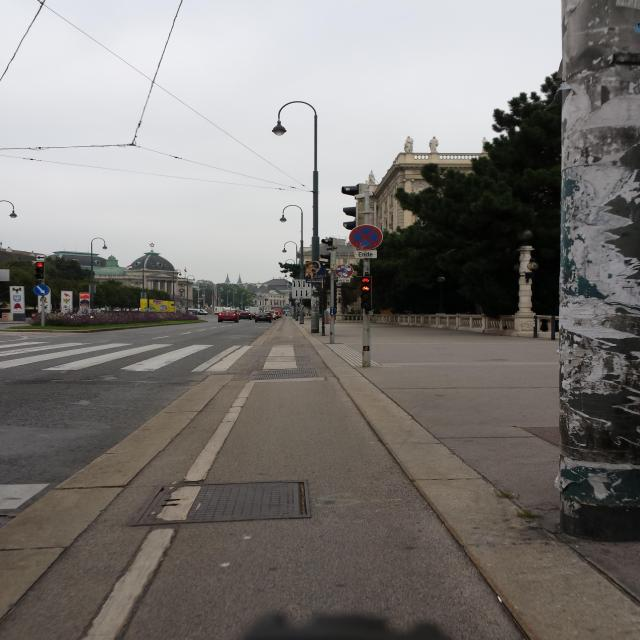Good: (140, 477, 318, 520), (249, 362, 325, 386)
